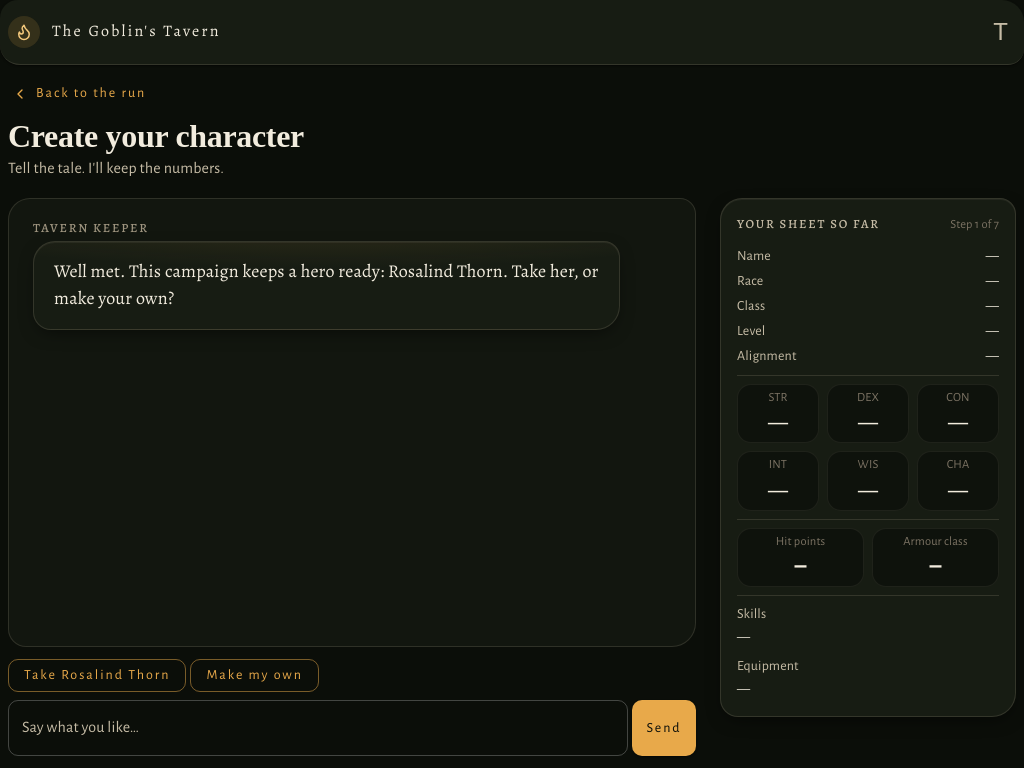
it: CreationChatRoute on /runs/:runId/create-character (AC1, AC2, AC4-AC6) › AC5: an error reply shows the in-voice line and 'Try again' re-posts the same text
This screenshot has width=1024, height=768.
Expected: the text "Well met. This campaign keeps a hero ready: Rosalind Thorn. Take her, or make your own?" is shown, [54,259,599,310]
Type "a sneaky halfling burglar" into the field labelled "Say what you like…" at (318, 728), box [8,700,628,756]
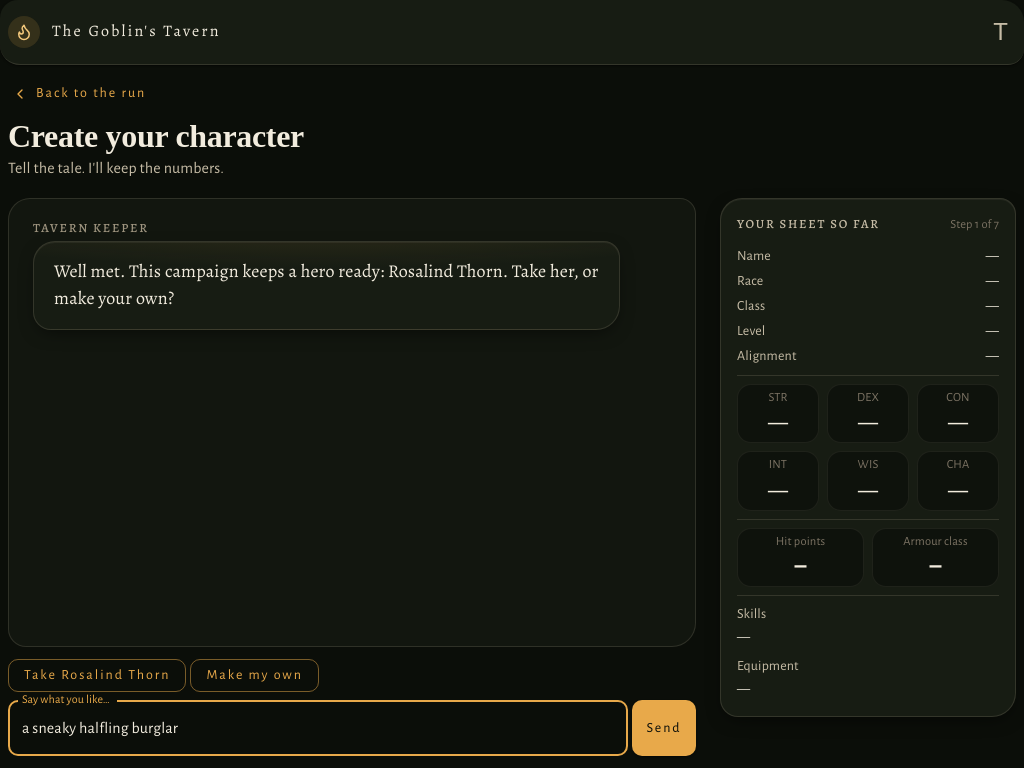
Click the button "Send" at (664, 728), box [632,700,696,756]
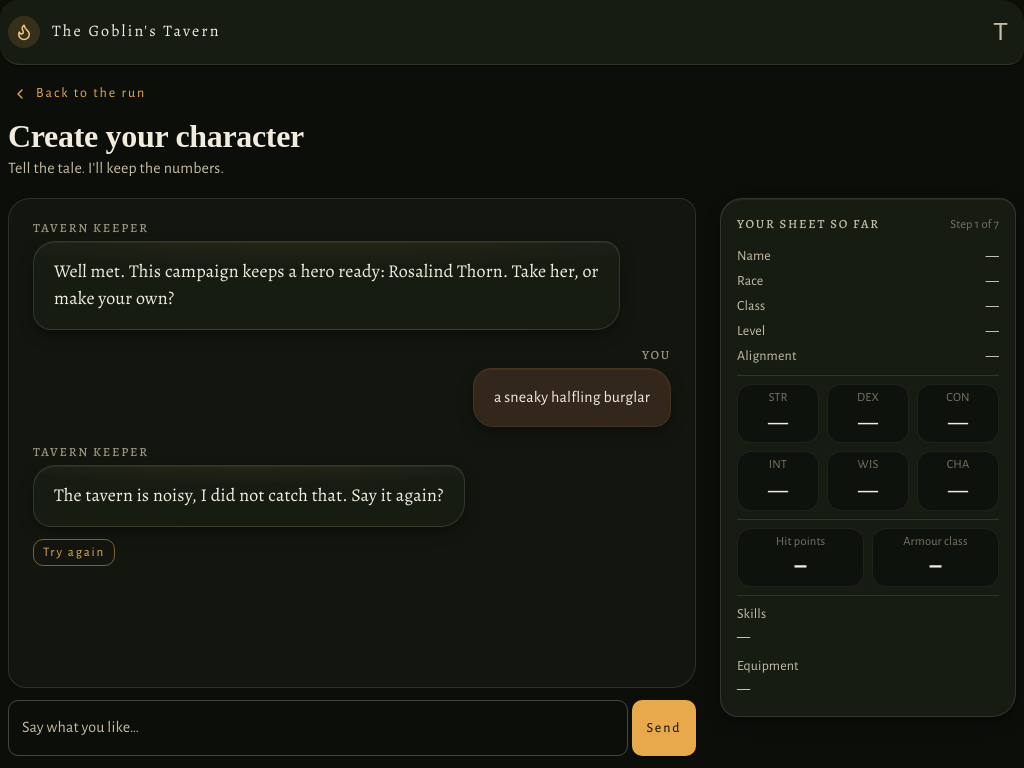
Now the text "The tavern is noisy, I did not catch that. Say it again?" is shown, box [54,482,444,510]
Click the button "Try again" at (74, 553), box [33,539,115,566]
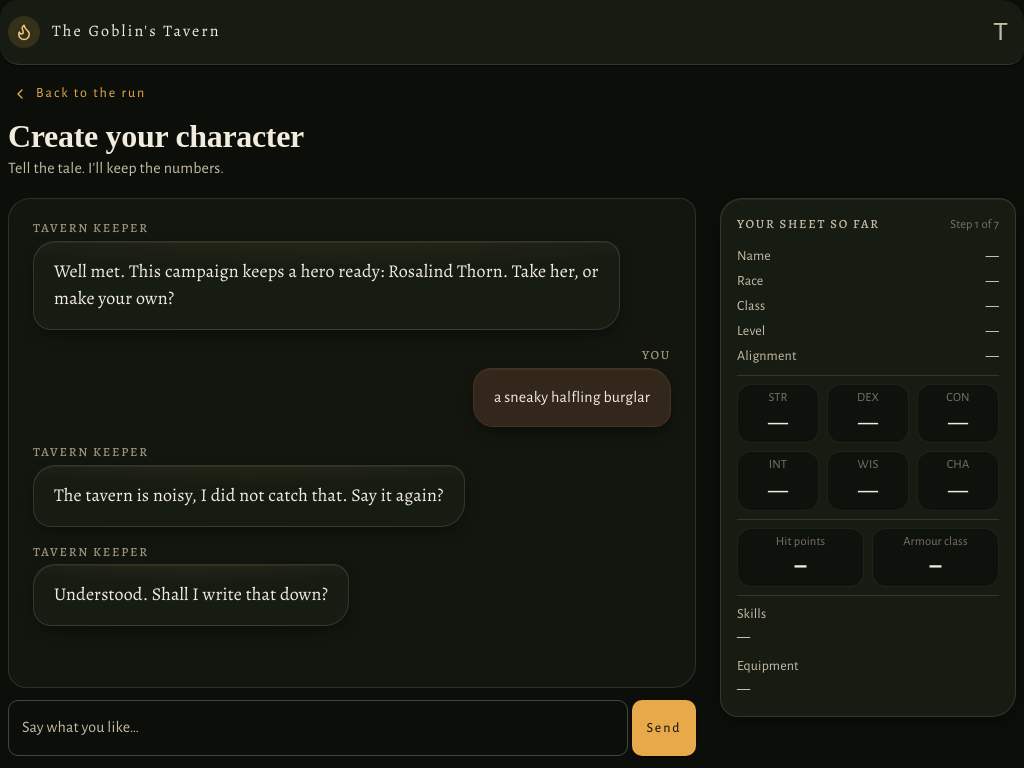
Expected: the text "a sneaky halfling burglar" is shown once, [494,385,650,410]
Now the text "Understood. Shall I write that down?" is shown, box [54,581,328,609]
